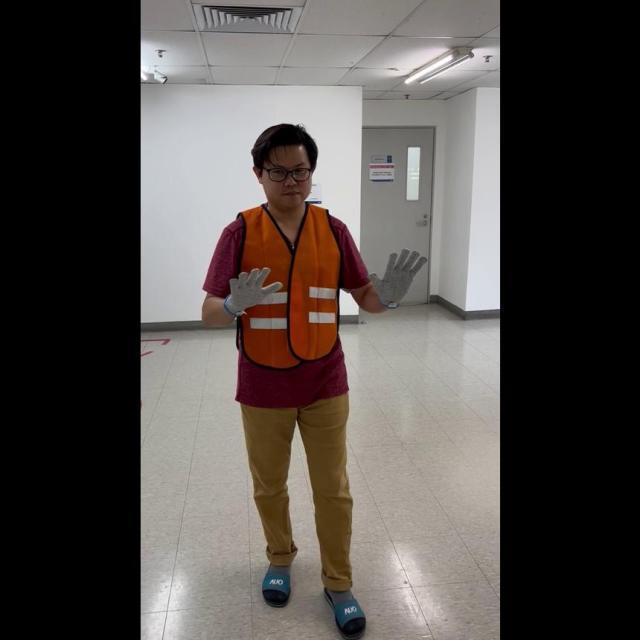gloved_hand: (368, 242, 425, 308), (222, 260, 281, 317)
